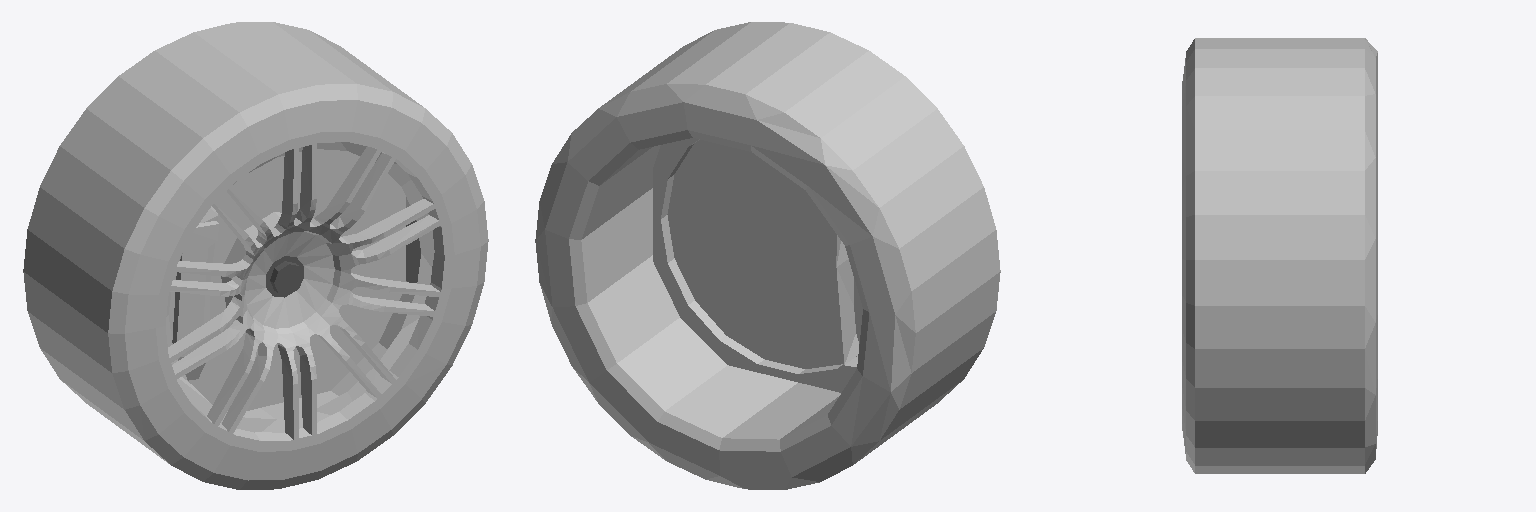
The model's file is llanta_der.obj.
The picture shows the model from 3 angles: view 1: azimuth 30°, elevation 25°; view 2: azimuth 150°, elevation 25°; view 3: azimuth 270°, elevation 25°; orthographic projection.
Parts seen in each view (by area): view 1: llanta_02; view 2: llanta_02; view 3: llanta_02.
Part boxes in pixels (left/top/right/bottom): llanta_02: left=23, top=22, right=488, bottom=489; llanta_02: left=535, top=22, right=1000, bottom=489; llanta_02: left=1182, top=38, right=1377, bottom=473.
Size of the model in its own units: 2.13 by 2.11 by 0.9484.